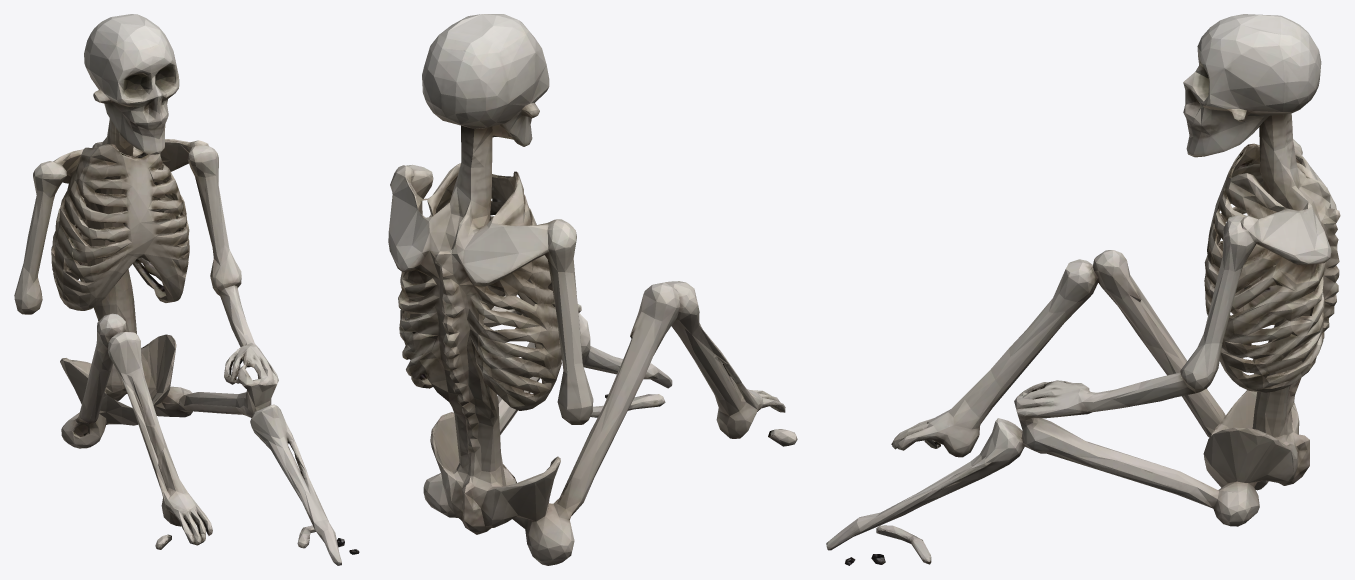
File: skeleton_sitting.glb
3 views of the same model, side by side, from view 1: azimuth 30°, elevation 25°; view 2: azimuth 150°, elevation 25°; view 3: azimuth 270°, elevation 25° (orthographic). The views are drawn at different scales.
Parts seen in each view (by area): view 1: geometry_0; view 2: geometry_0; view 3: geometry_0.
Part boxes in pixels (<box>): geometry_0: <box>14,14,359,565</box>; geometry_0: <box>388,14,797,565</box>; geometry_0: <box>826,14,1340,565</box>.
Size of the model in its own units: 0.4819 by 0.9959 by 0.9075.
Materials: 1 (1 with a texture image).
